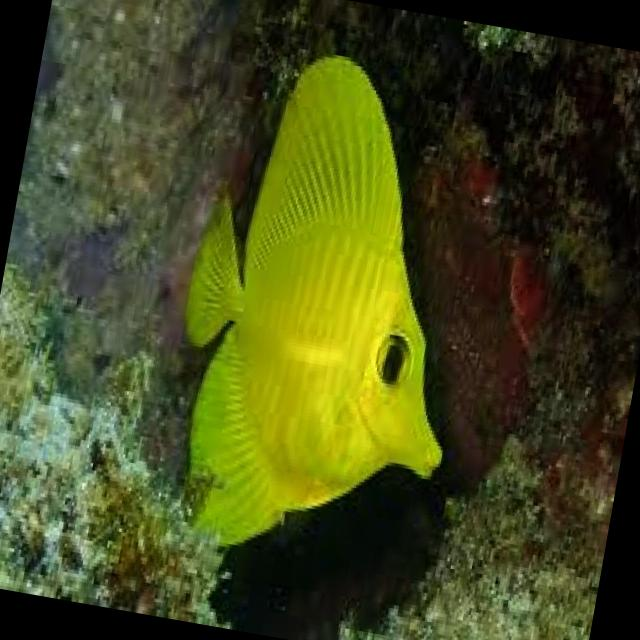TangFish: (135, 34, 508, 584)
